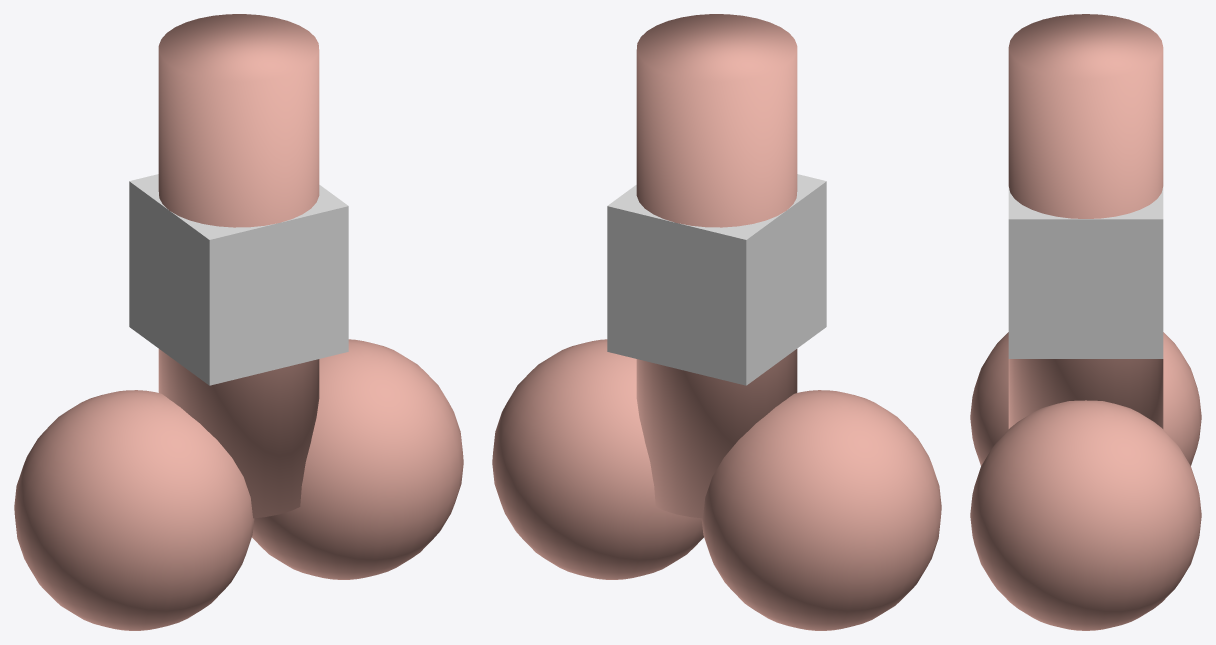
The model's file is testModel.fbx.
3 renders of one model, left to right at view 1: azimuth 30°, elevation 25°; view 2: azimuth 150°, elevation 25°; view 3: azimuth 270°, elevation 25°, orthographic. The views are drawn at different scales.
Parts seen in each view (by area): view 1: Cylinder, Cube; view 2: Cylinder, Cube; view 3: Cylinder, Cube.
Part boxes in pixels (bbox=[...]): Cylinder: bbox=[14, 14, 463, 630]; Cube: bbox=[129, 174, 348, 385]; Cylinder: bbox=[492, 14, 941, 630]; Cube: bbox=[607, 174, 826, 385]; Cylinder: bbox=[970, 14, 1201, 630]; Cube: bbox=[1008, 187, 1163, 358].
Bounding box in the file's own units: 600 × 750 × 300.
